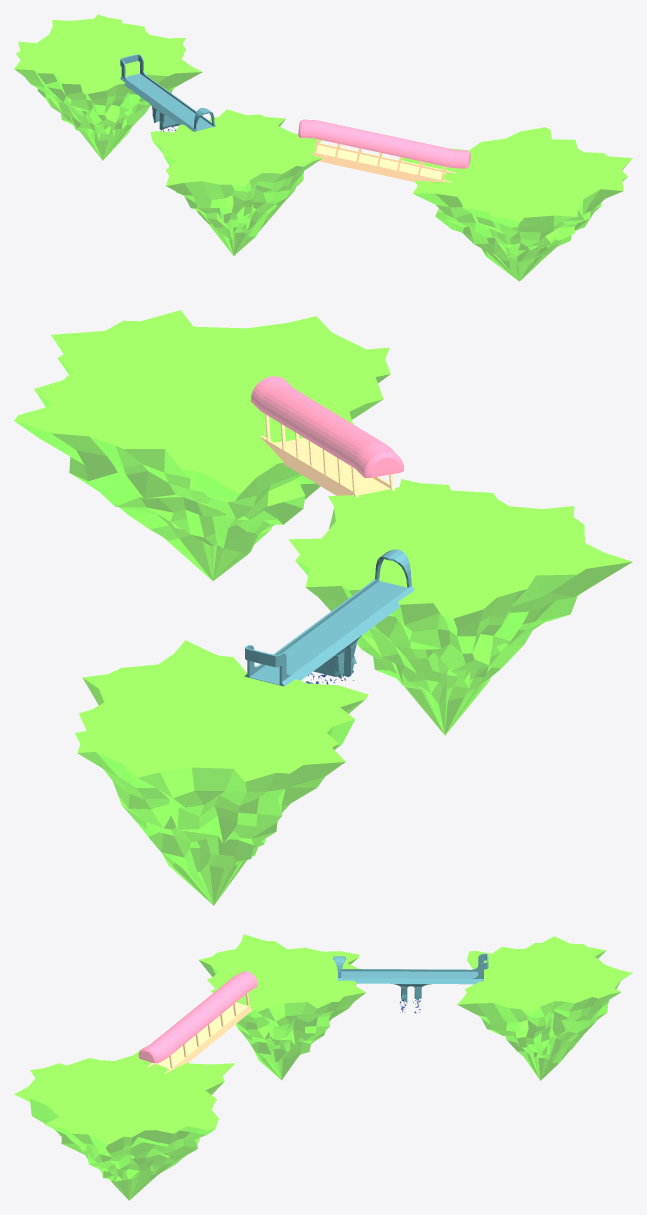
File: Floating_island_all.gltf
3 views of the same model, one above another, from view 1: azimuth 30°, elevation 25°; view 2: azimuth 150°, elevation 25°; view 3: azimuth 270°, elevation 25° (orthographic). The views are drawn at different scales.
Visible parts, largest first — view 1: Ile 1; view 2: Ile 1; view 3: Ile 1.
Boxes of the visible parts, left/top/right/bottom form: Ile 1: left=14, top=14, right=632, bottom=281; Ile 1: left=14, top=310, right=632, bottom=905; Ile 1: left=14, top=934, right=632, bottom=1200.
Size of the model in its own units: 680 by 254 by 926.
